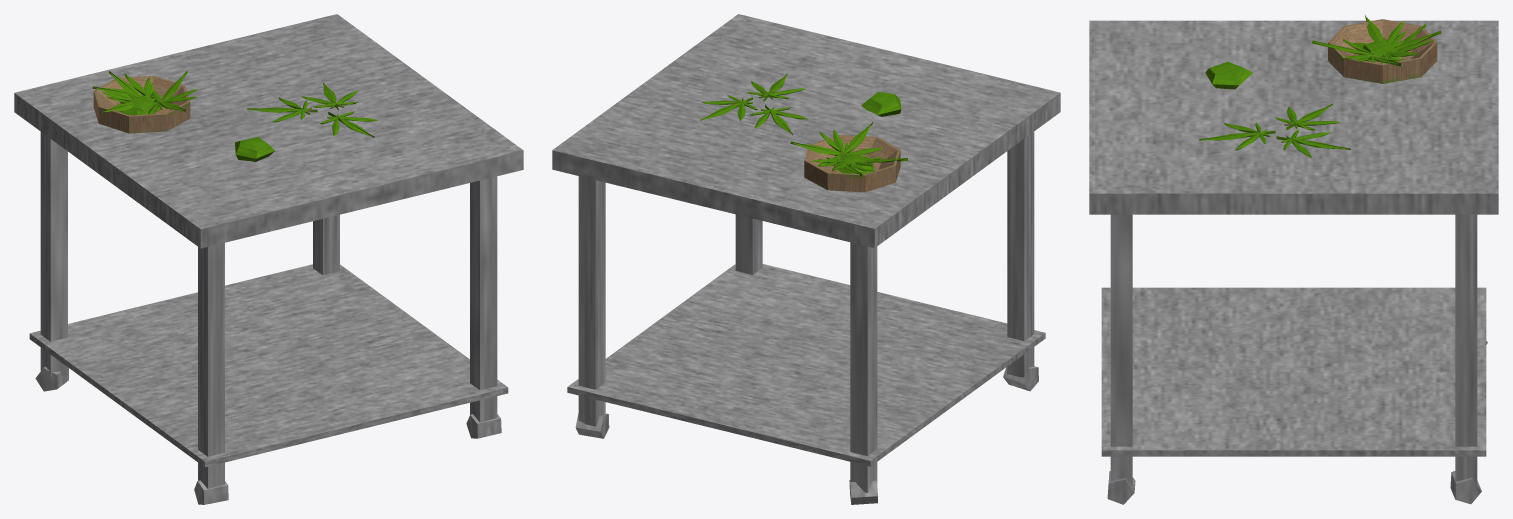
The model's file is coketable.obj.
3 views of the same model, side by side, from view 1: azimuth 30°, elevation 25°; view 2: azimuth 150°, elevation 25°; view 3: azimuth 270°, elevation 25° (orthographic). The views are drawn at different scales.
Visible parts, largest first — view 1: table, resinejoint; view 2: table, resinejoint, leaf3; view 3: table, resinejoint, leaf3, leaf4.
Boxes of the visible parts, x1=… form: table: x1=14, y1=14, x2=523, y2=504; resinejoint: x1=235, y1=137, x2=274, y2=161; table: x1=552, y1=14, x2=1060, y2=504; resinejoint: x1=861, y1=92, x2=901, y2=116; leaf3: x1=825, y1=122, x2=882, y2=159; table: x1=1089, y1=19, x2=1498, y2=504; resinejoint: x1=1205, y1=61, x2=1253, y2=89; leaf3: x1=1312, y1=39, x2=1383, y2=62; leaf4: x1=1353, y1=15, x2=1407, y2=47.
Size of the model in its own units: 1.23 by 1.15 by 1.23.
Materials: 2 (2 with a texture image).
